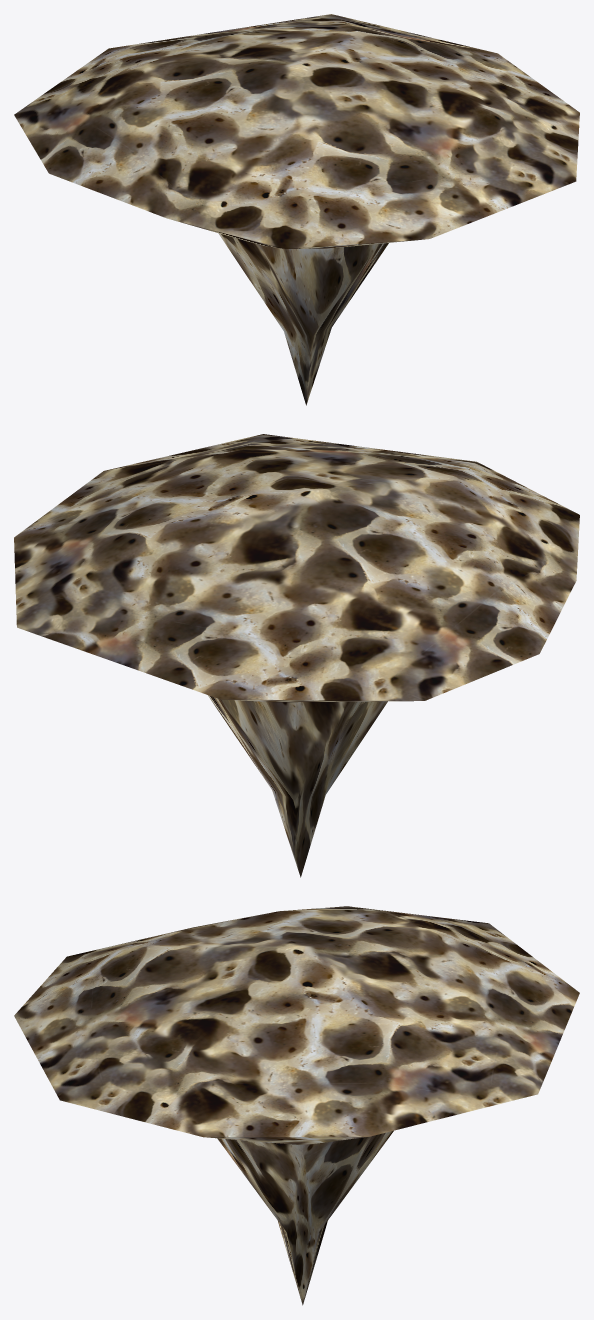
File: CoralStone-02_LOD0.fbx
3 views of the same model, one above another, from view 1: azimuth 30°, elevation 25°; view 2: azimuth 150°, elevation 25°; view 3: azimuth 270°, elevation 25° (orthographic). The views are drawn at different scales.
Visible parts, largest first — view 1: CoralStone-02_high; view 2: CoralStone-02_high; view 3: CoralStone-02_high.
Boxes of the visible parts, <box> form: CoralStone-02_high: <box>14,14,579,405</box>; CoralStone-02_high: <box>14,434,579,877</box>; CoralStone-02_high: <box>14,906,579,1305</box>.
Size of the model in its own units: 0.238 by 0.1701 by 0.2465.
